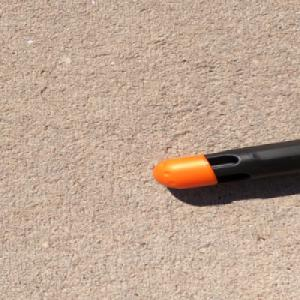PlasticPart: (151, 136, 300, 189)
